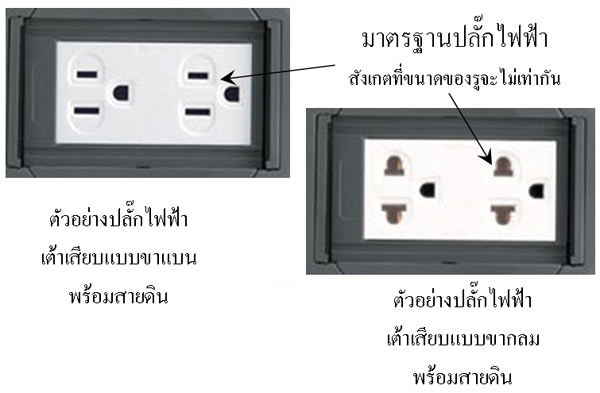Three_eye_plug: (306, 110, 598, 271), (16, 15, 285, 172)
